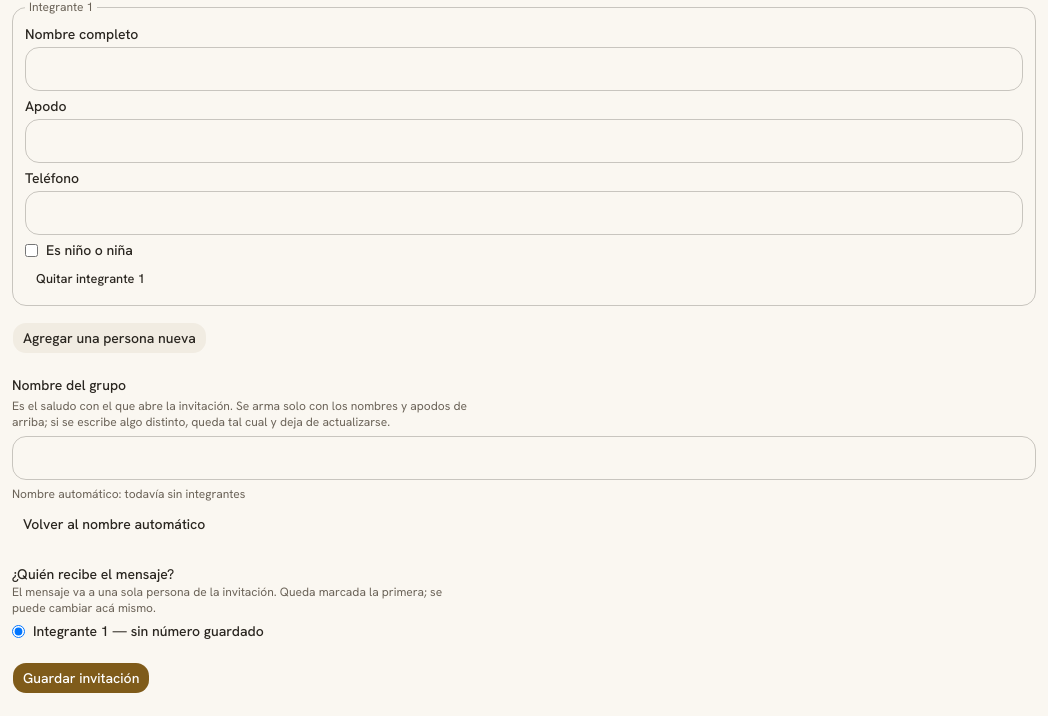
Test: InvitationForm's live derived group name › re-derives the name as a nickname is typed for one member
Type "Luis Guzmán" into the field labelled "Nombre completo". click: (524, 69)
box: top-left (25, 47), bottom-right (1023, 91)
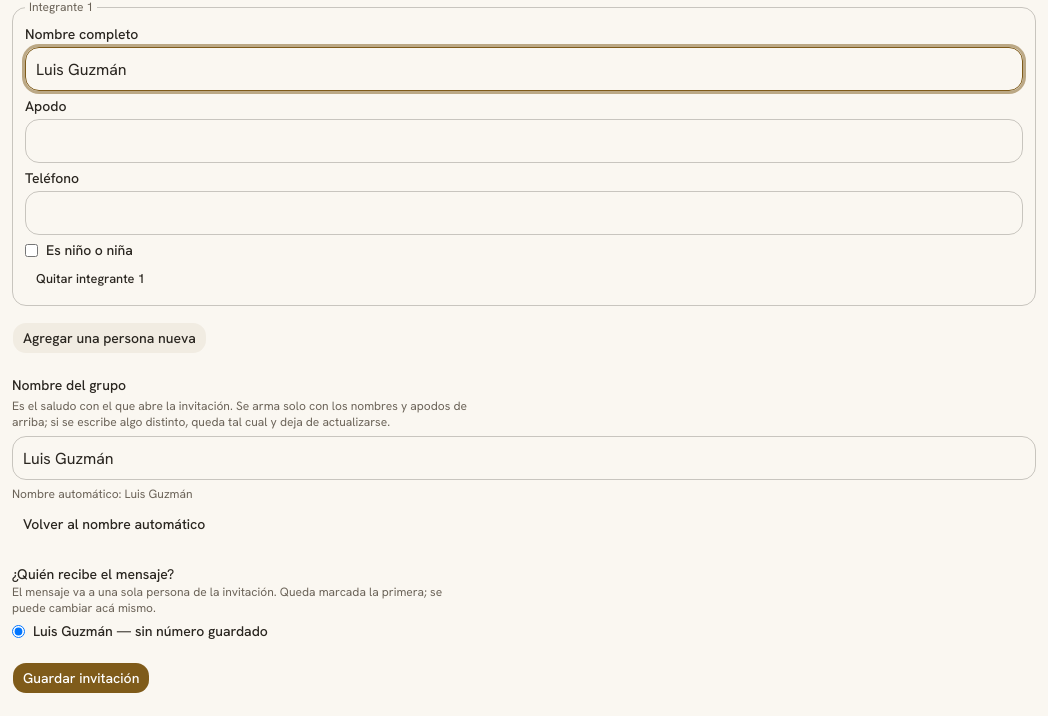
Click the button "Agregar una persona nueva". click: (109, 338)
box: top-left (12, 322), bottom-right (207, 354)
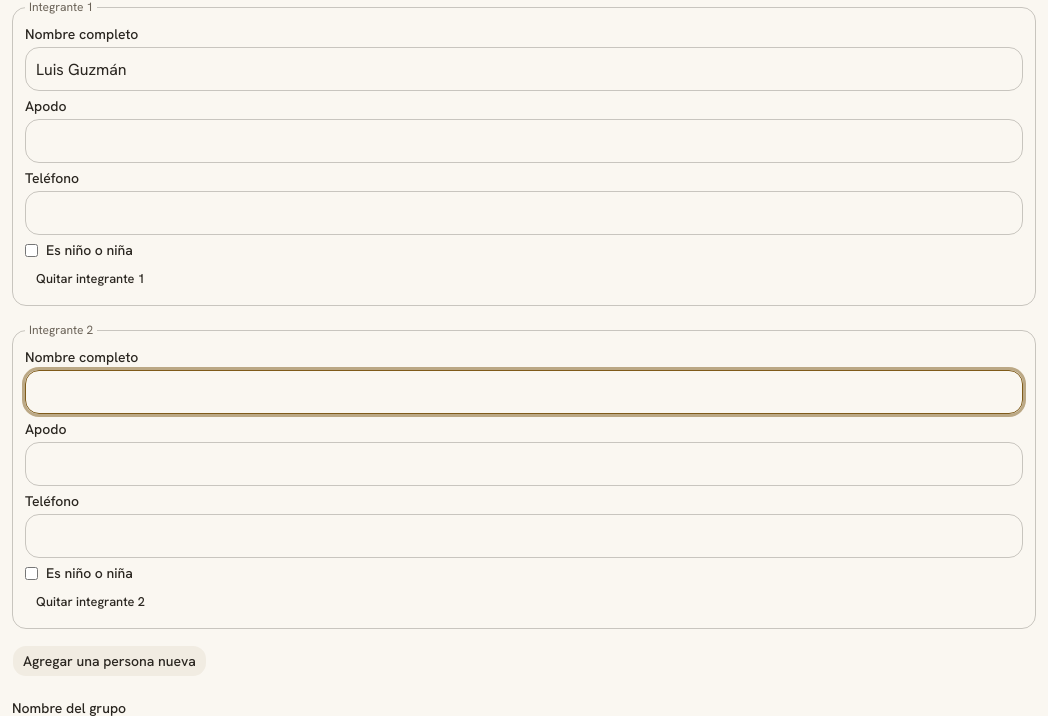
Type "Michell Ruiz" into the 2nd field labelled "Nombre completo". click: (524, 392)
box: top-left (25, 370), bottom-right (1023, 414)
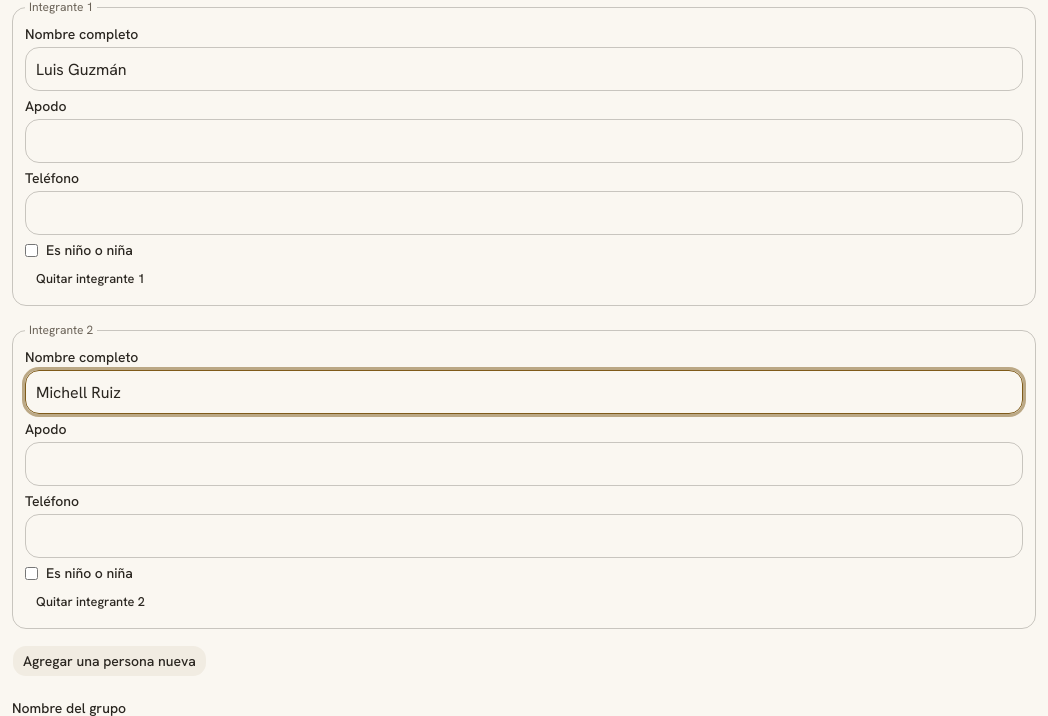
Type "Lucho" into the 1st field labelled "Apodo". click: (524, 141)
box: top-left (25, 119), bottom-right (1023, 163)
(page scrolled)
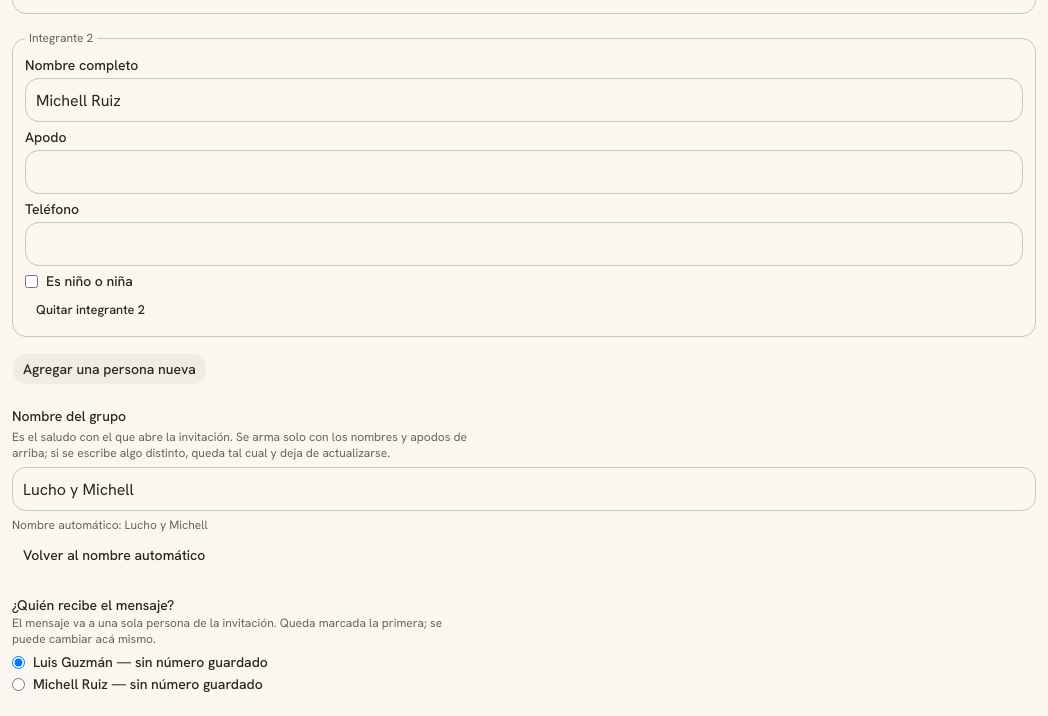
Now the text with test id "invitation-derived-name" shows "Lucho y Michell", box top-left (125, 517), bottom-right (208, 533)
